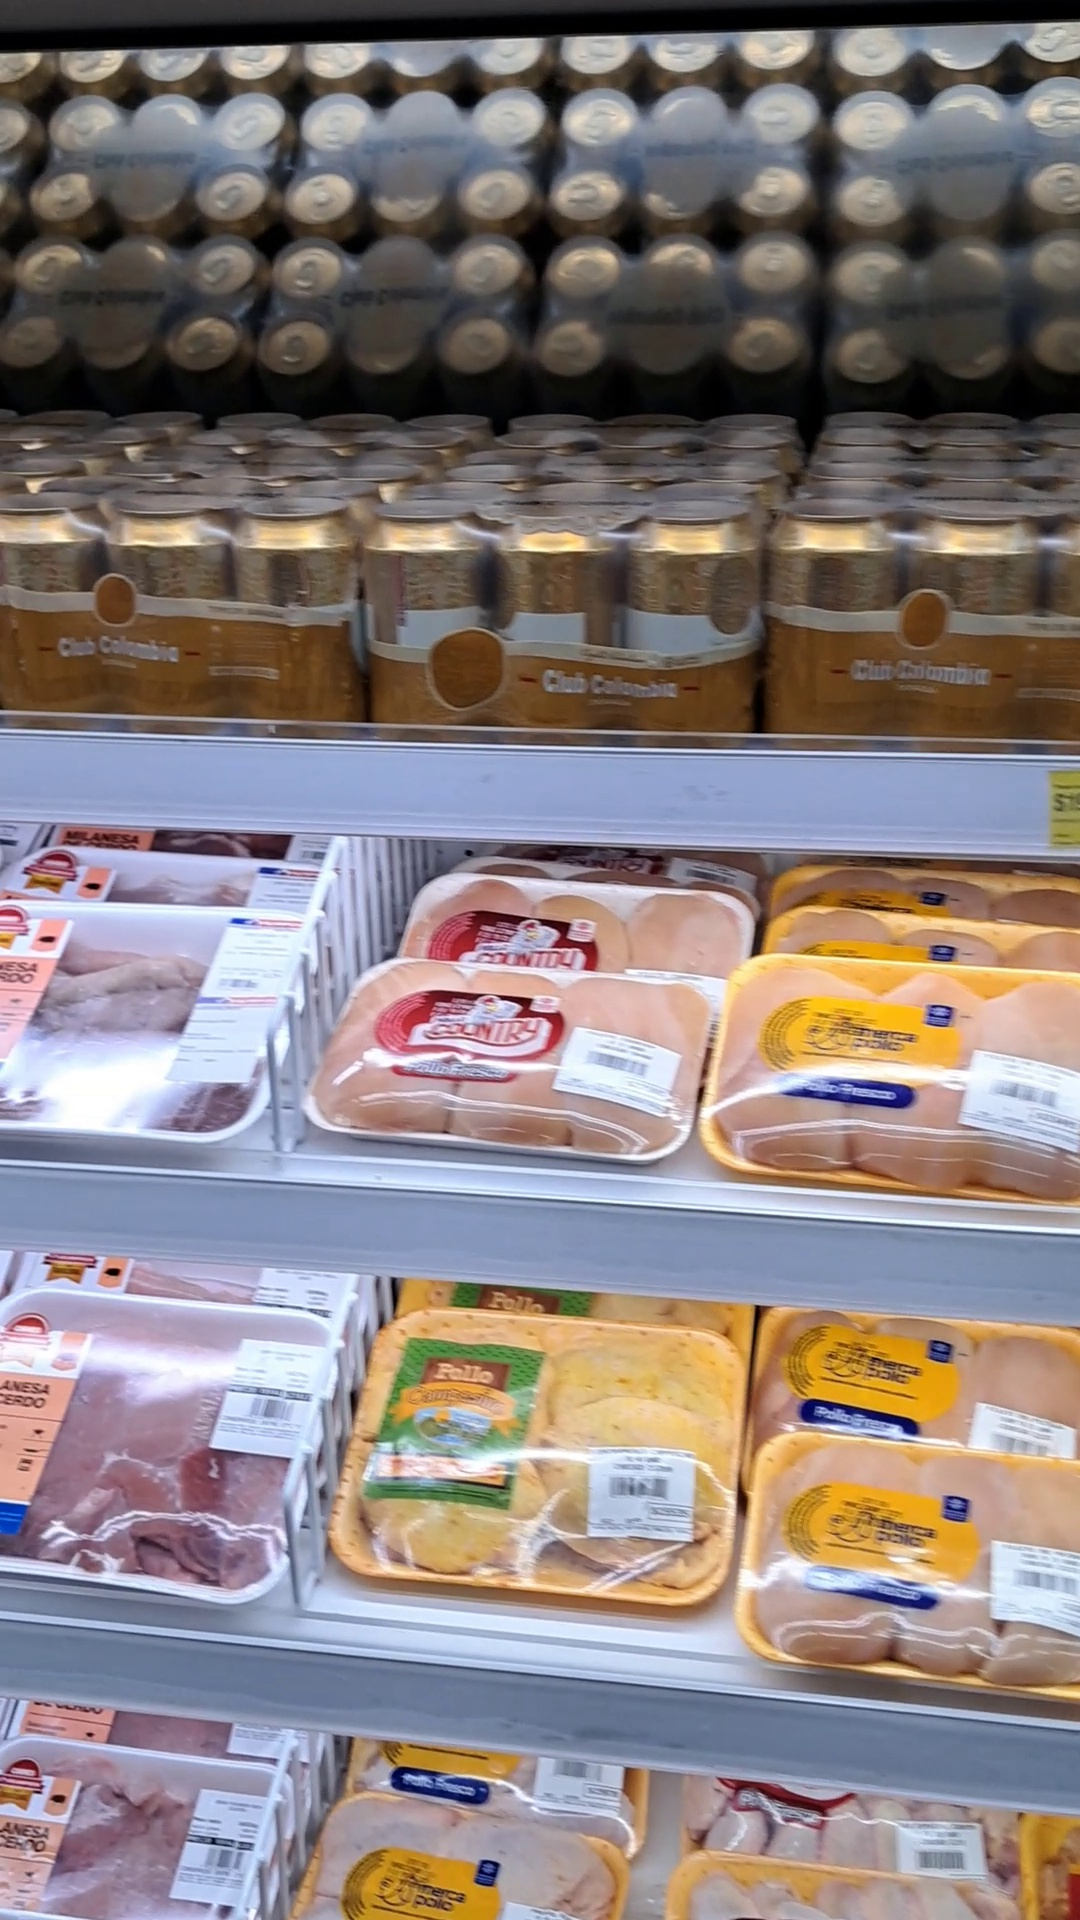Cerveza: (373, 472, 755, 723), (10, 462, 365, 725), (763, 477, 1080, 733), (482, 415, 805, 479), (810, 412, 1071, 479), (186, 400, 482, 445)
